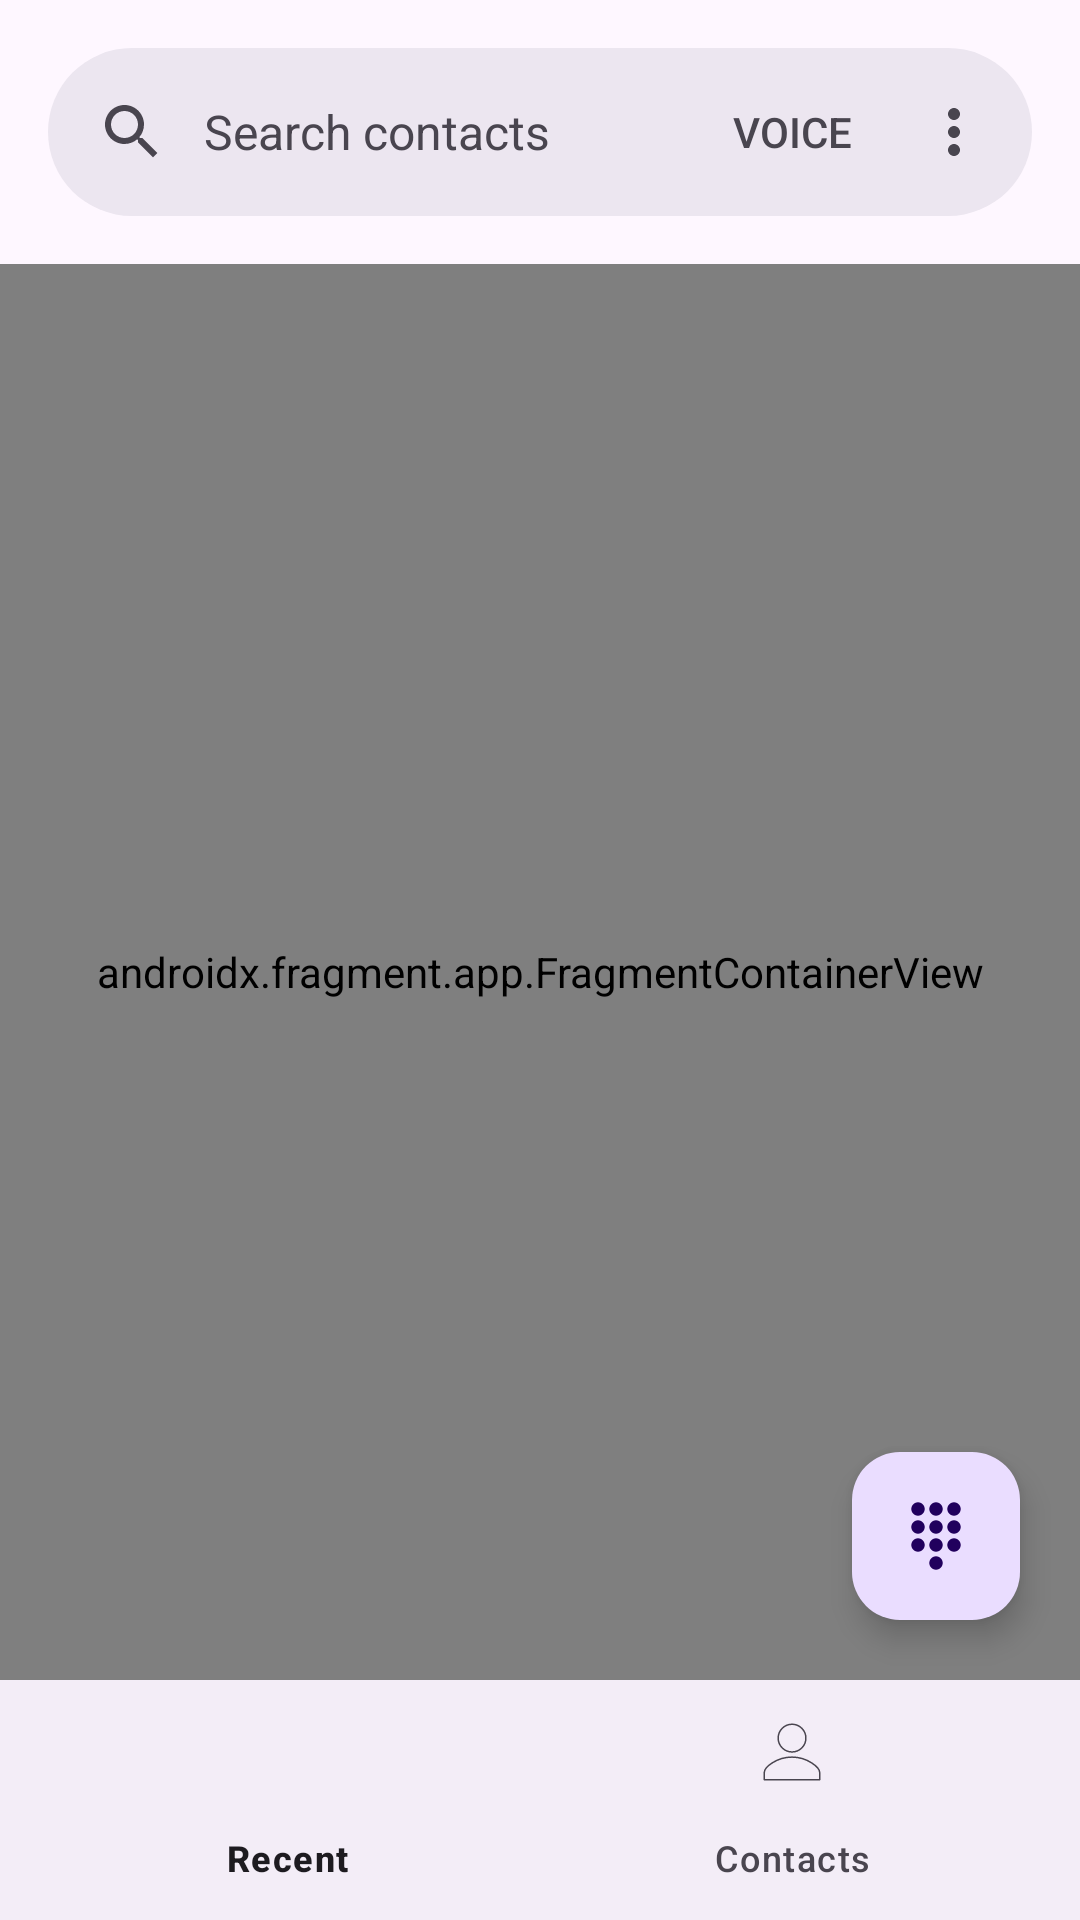

Locate icon controls on the screen. Image size 1080px x 1920px, boxes as (x1, y1, x2, y2).
fab: (852, 1452, 1020, 1620)
